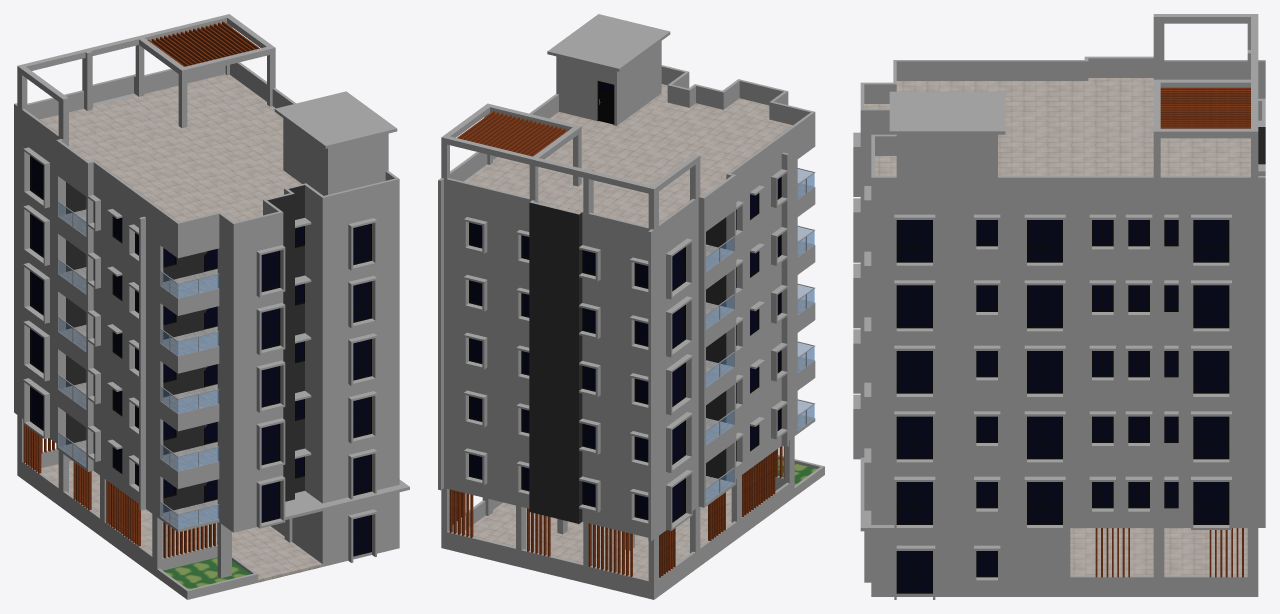
File: Apartment Building_26_fbx.FBX
3 renders of one model, left to right at view 1: azimuth 30°, elevation 25°; view 2: azimuth 150°, elevation 25°; view 3: azimuth 270°, elevation 25°, orthographic. The views are drawn at different scales.
Parts seen in each view (by area): view 1: WALL, ROOF_1, GROUND FLOOR_1, BALCONY, LOUVER, WINDOW, DOOR, GROUND FLOOR_2; view 2: WALL, ROOF_1, GROUND FLOOR_1, LOUVER, WINDOW, BALCONY, ROOF_2; view 3: WALL, ROOF_1, WINDOW, GROUND FLOOR_1, LOUVER, GROUND FLOOR_2.
Part boxes in pixels (bbox=[...]): WALL: bbox=[14, 121, 399, 532]; ROOF_1: bbox=[14, 62, 399, 241]; GROUND FLOOR_1: bbox=[17, 415, 409, 599]; BALCONY: bbox=[58, 201, 219, 532]; LOUVER: bbox=[17, 14, 275, 558]; WINDOW: bbox=[30, 156, 371, 522]; DOOR: bbox=[204, 249, 217, 502]; GROUND FLOOR_2: bbox=[353, 515, 371, 556]; WALL: bbox=[438, 142, 797, 541]; ROOF_1: bbox=[438, 14, 815, 249]; GROUND FLOOR_1: bbox=[441, 436, 824, 599]; LOUVER: bbox=[441, 103, 784, 577]; WINDOW: bbox=[469, 177, 781, 522]; BALCONY: bbox=[706, 129, 815, 506]; ROOF_2: bbox=[597, 81, 614, 124]; WALL: bbox=[853, 81, 1265, 531]; ROOF_1: bbox=[860, 56, 1265, 197]; WINDOW: bbox=[896, 220, 1229, 524]; GROUND FLOOR_1: bbox=[860, 457, 1258, 599]; LOUVER: bbox=[1095, 14, 1258, 577]; GROUND FLOOR_2: bbox=[896, 551, 997, 593].
Size of the model in its own units: 486 by 684 by 858.
Materials: 10 (4 with a texture image).
